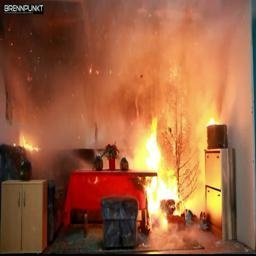fire: (132, 102, 214, 224)
